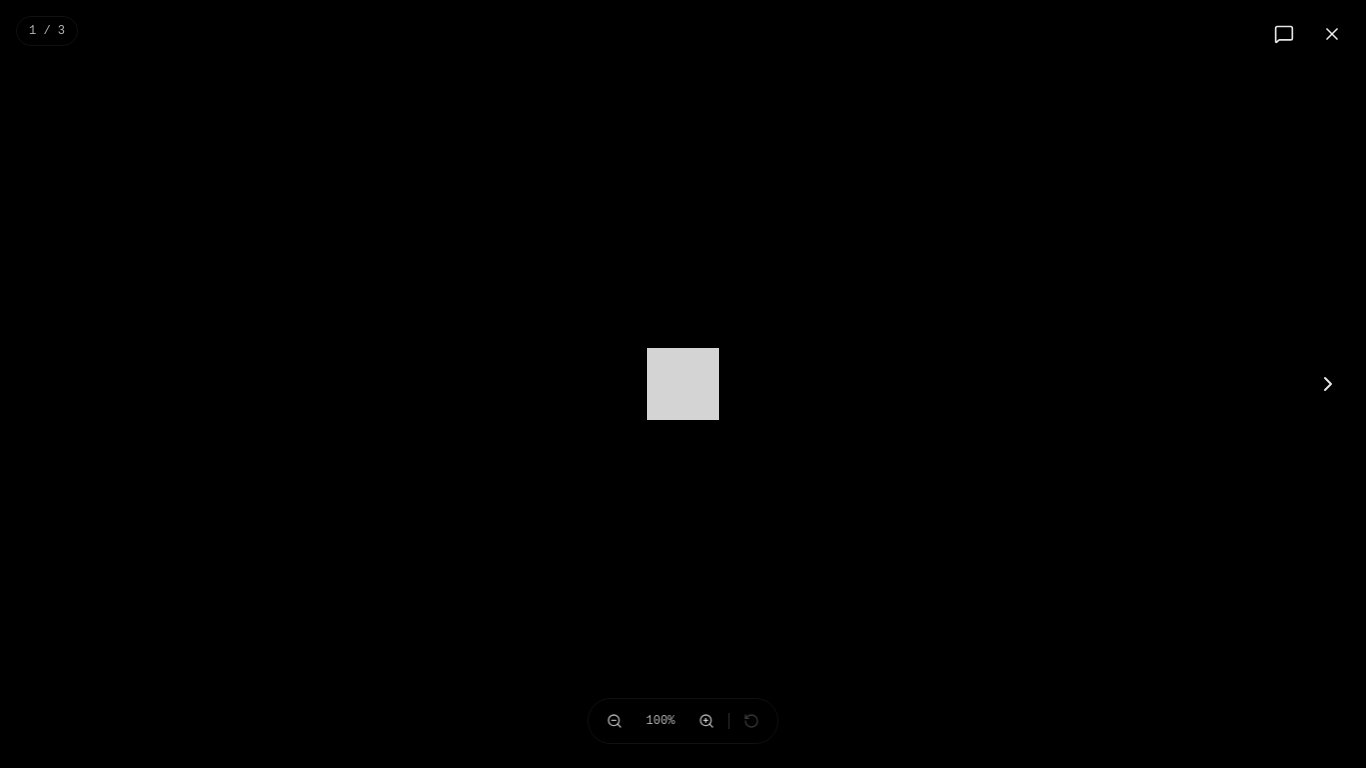
ImageLightbox › disables comment button for empty input
The width and height of the screenshot is (1366, 768).
Click the button titled "Toggle comments" at [1284, 34], box [1266, 16, 1302, 52]
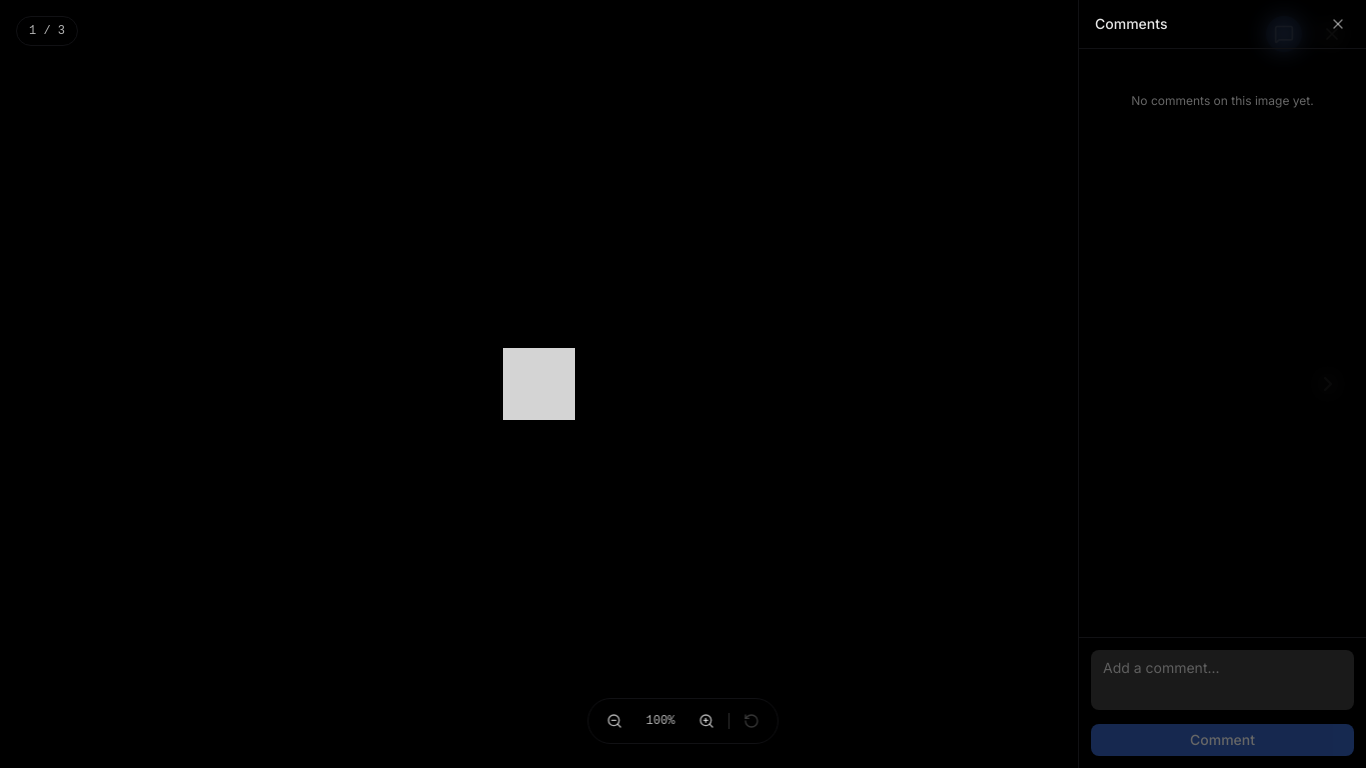
Check: the button "Comment" is disabled, box [1091, 724, 1354, 756]
